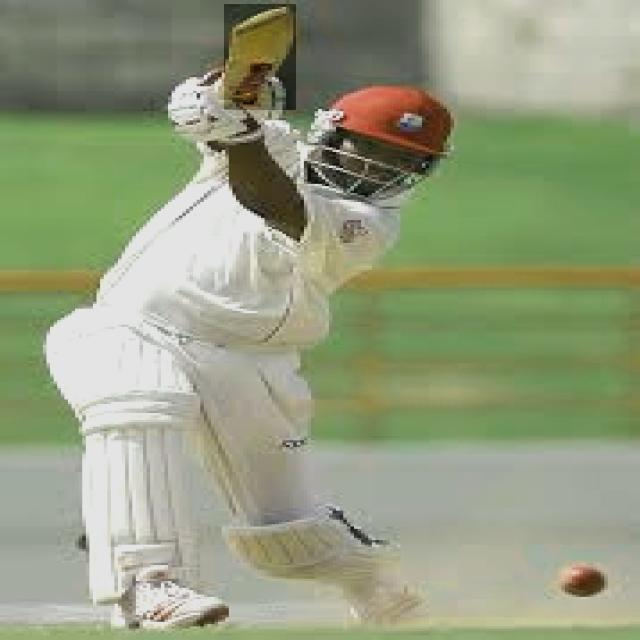bat: (225, 3, 295, 110)
toe: (227, 4, 295, 34)
